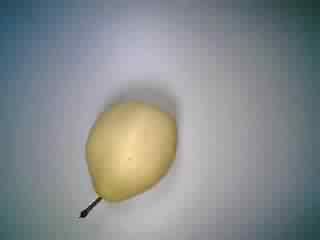pear: (67, 88, 183, 222)
